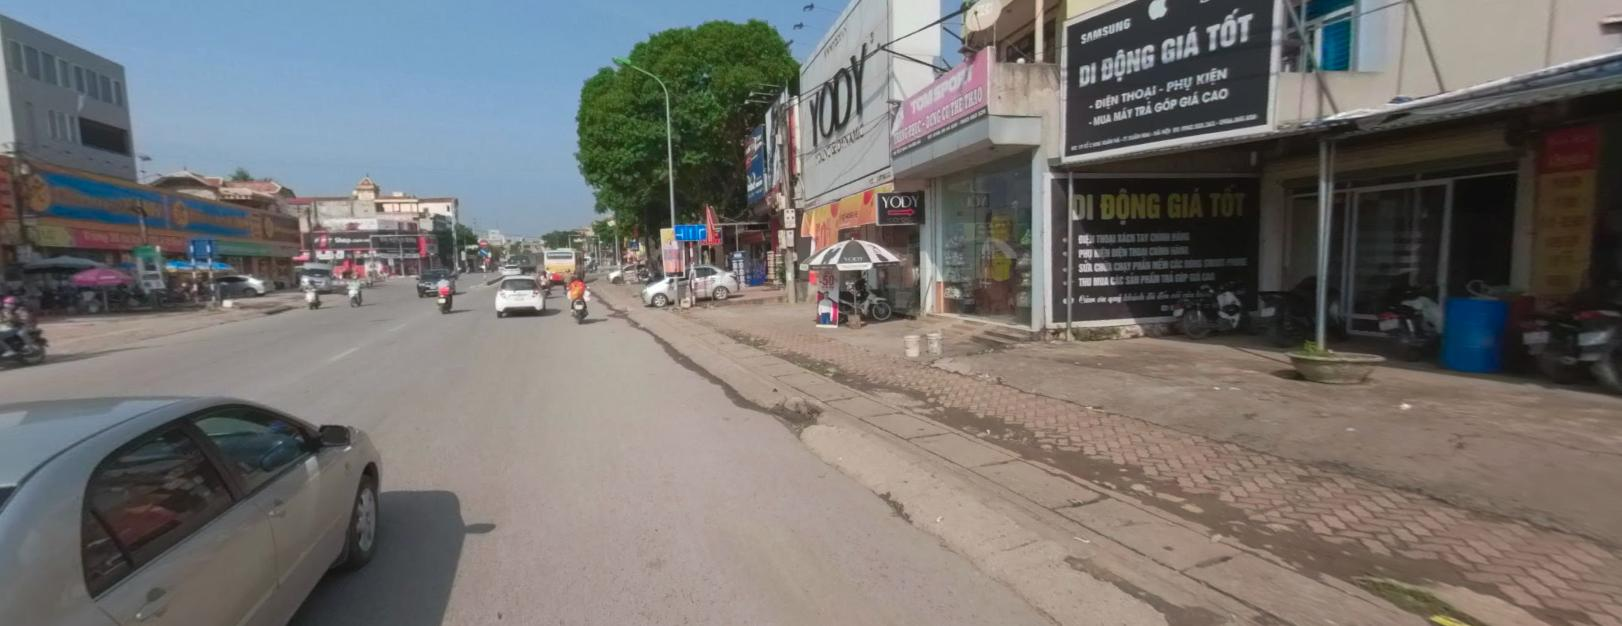Cam nguoc chieu: (479, 238, 486, 245)
Hieu lenh: (479, 246, 487, 254)
